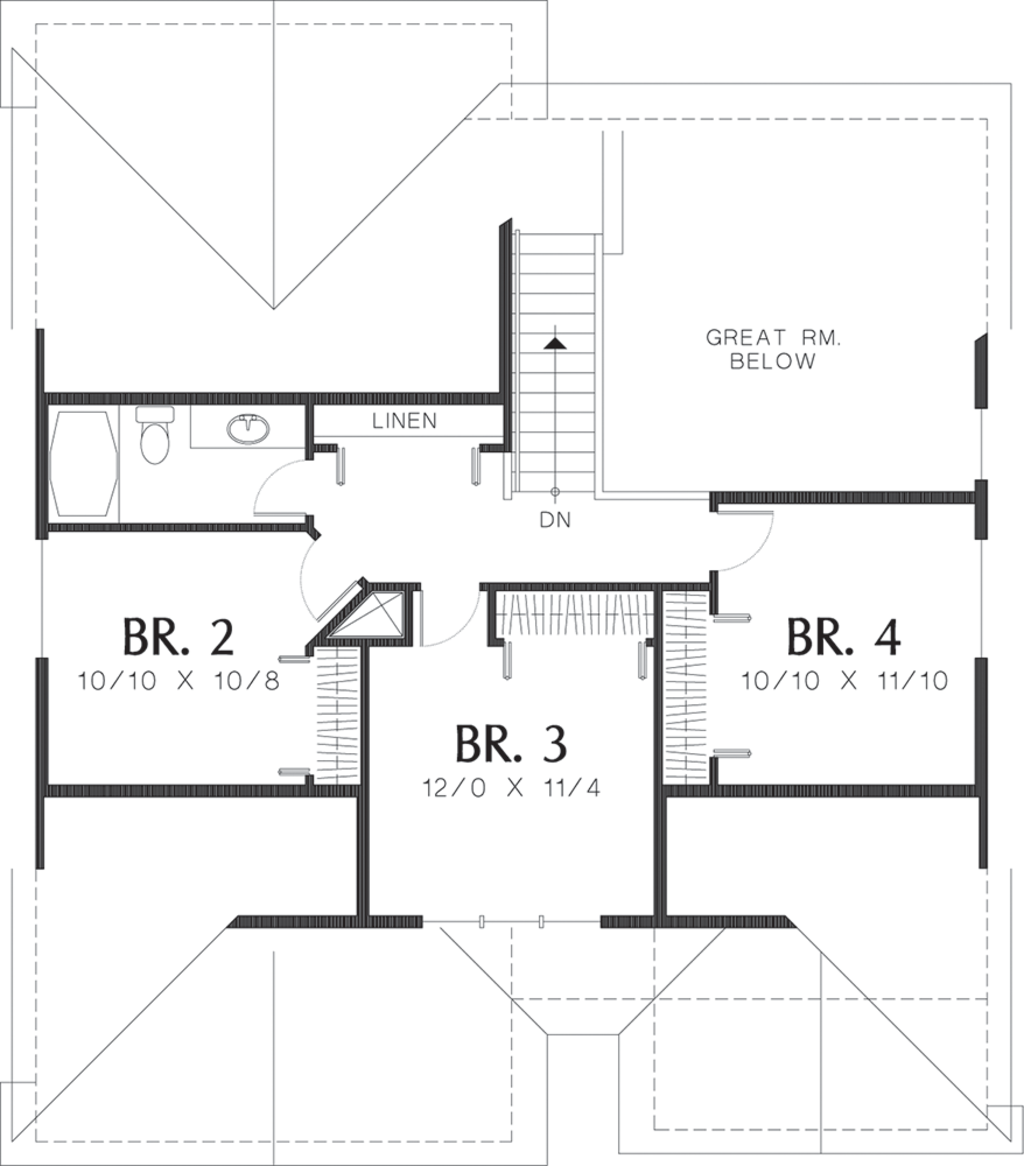door: (293, 529, 358, 629), (249, 451, 333, 522), (704, 495, 784, 569), (404, 576, 480, 651)
large_sink: (125, 384, 180, 475)
small_sink: (189, 396, 316, 453)
stairs: (504, 218, 636, 509)
tub: (36, 402, 122, 522)
window: (964, 531, 996, 664), (29, 538, 53, 656), (971, 398, 989, 482)
